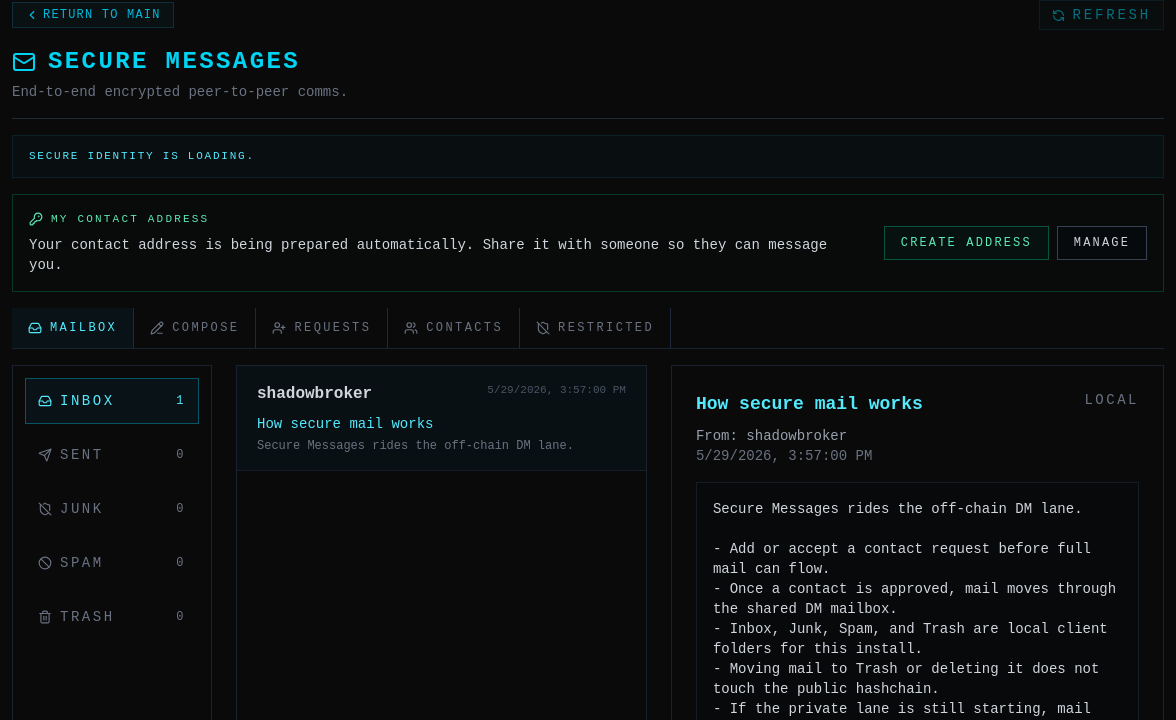
Test case: MessagesView first-contact trust UX › shows saved contacts without witness-policy implementation detail
Step 1. Click the button "CONTACTS" → (454, 328), box [388,308,520,348]
(page scrolled)
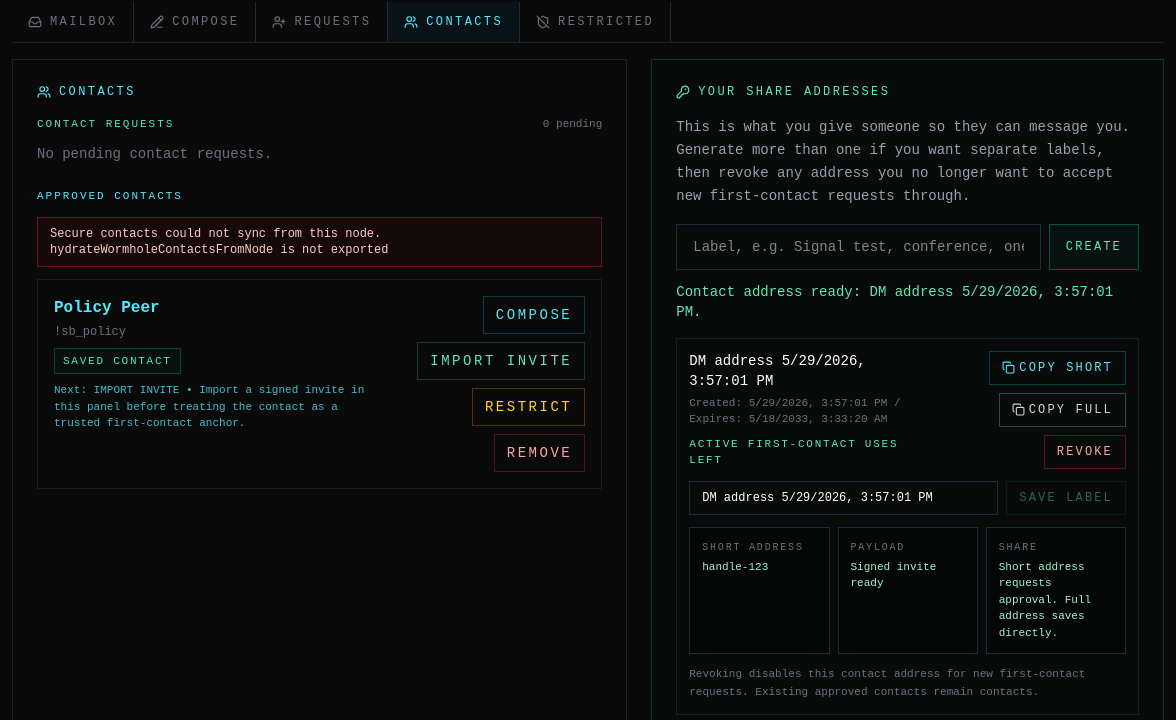
expect the text "Saved Contact" is shown: met, box [54,348,181,374]
